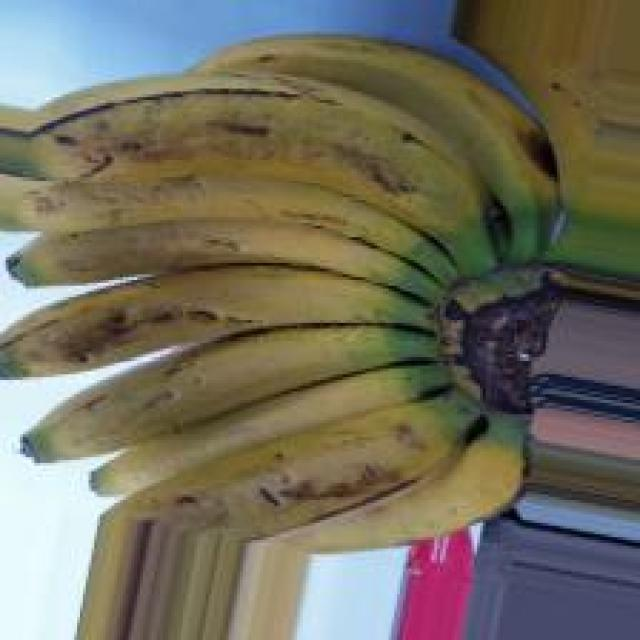bananas: (30, 20, 599, 241), (44, 293, 608, 448), (70, 486, 540, 545)
